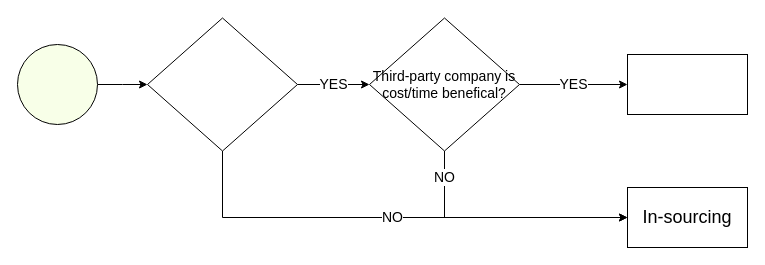
Image size: 765x265. Some labels were removed from this diagram. The centre of each missing label's shape, as x and y in pixels:
"Existing Site Survey companies in the region?" belongs at [222,84].
"Out-sourcing" belongs at [687,84].
